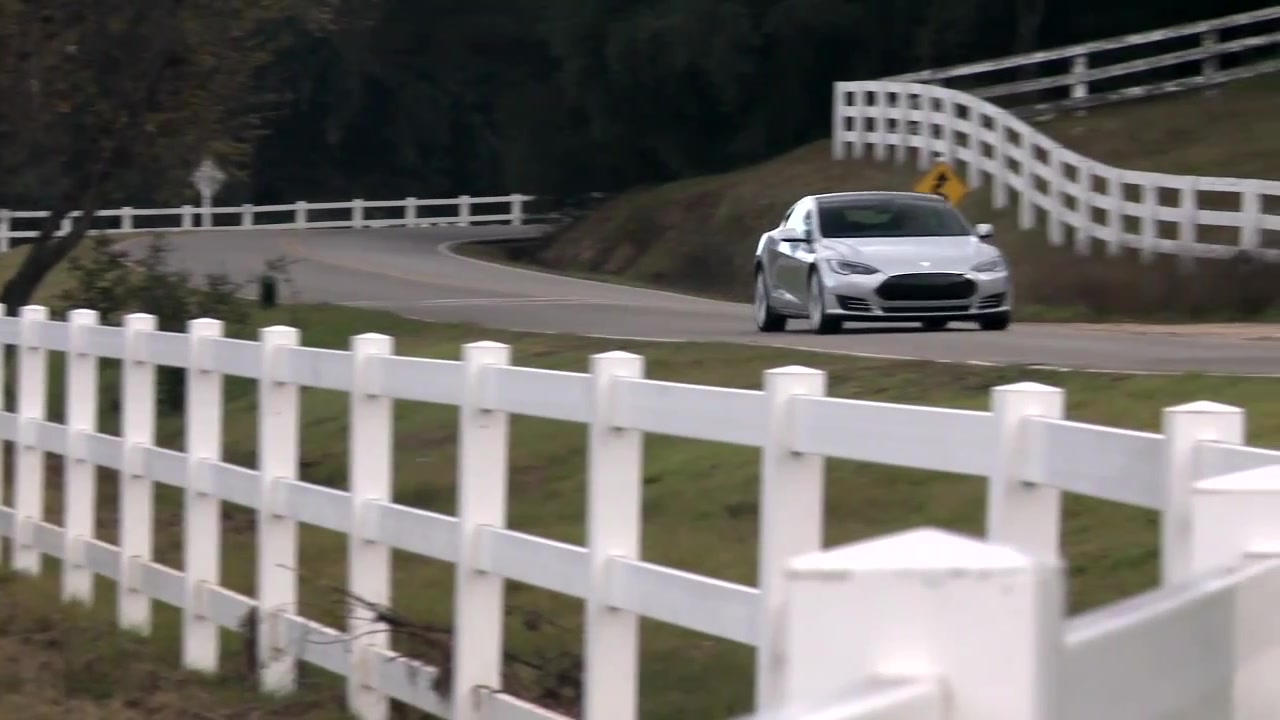car: (751, 188, 1019, 339)
